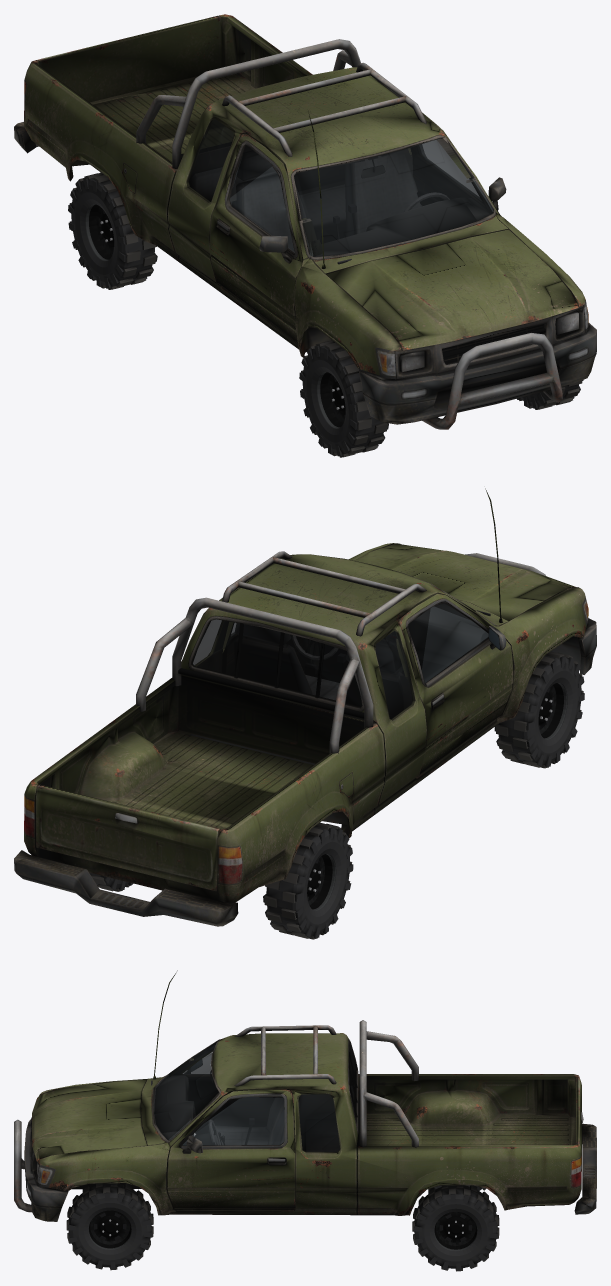
File: pickup_truck.lod0.glb
3 views of the same model, one above another, from view 1: azimuth 30°, elevation 25°; view 2: azimuth 150°, elevation 25°; view 3: azimuth 270°, elevation 25° (orthographic). The views are drawn at different scales.
Visible parts, largest first — view 1: pickup body_vehicle_0, pickup body_windowss_0, door_FR_pic, wheel_RR, wheel_FR, door_FL_pic, wheel_FL; view 2: pickup body_vehicle_0, door_FR_pic, pickup body_windowss_0, wheel_RR, wheel_FR, door_FL_pic; view 3: pickup body_vehicle_0, door_FL_pic, pickup body_windowss_0, wheel_FL, wheel_RL, door_FR_pic.
Part boxes in pixels (x1=…): pickup body_vehicle_0: x1=14, y1=14, x2=596, y2=429; pickup body_windowss_0: x1=186, y1=119, x2=492, y2=256; door_FR_pic: x1=209, y1=146, x2=312, y2=343; wheel_RR: x1=68, y1=172, x2=157, y2=289; wheel_FR: x1=299, y1=340, x2=388, y2=457; door_FL_pic: x1=410, y1=132, x2=506, y2=217; wheel_FL: x1=517, y1=380, x2=583, y2=409; pickup body_vehicle_0: x1=14, y1=488, x2=596, y2=926; door_FR_pic: x1=403, y1=596, x2=512, y2=777; pickup body_windowss_0: x1=192, y1=604, x2=469, y2=720; wheel_RR: x1=263, y1=822, x2=353, y2=939; wheel_FR: x1=494, y1=651, x2=584, y2=768; door_FL_pic: x1=222, y1=622, x2=310, y2=675; pickup body_vehicle_0: x1=14, y1=970, x2=596, y2=1221; door_FL_pic: x1=167, y1=1096, x2=295, y2=1211; pickup body_windowss_0: x1=153, y1=1041, x2=356, y2=1152; wheel_FL: x1=66, y1=1183, x2=153, y2=1270; wheel_RL: x1=412, y1=1185, x2=499, y2=1271; door_FR_pic: x1=169, y1=1055, x2=275, y2=1134.
Size of the model in its own units: 2.18 by 2.61 by 6.01.
Materials: 6 (2 with a texture image).
